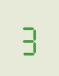three: (19, 20, 38, 55)
